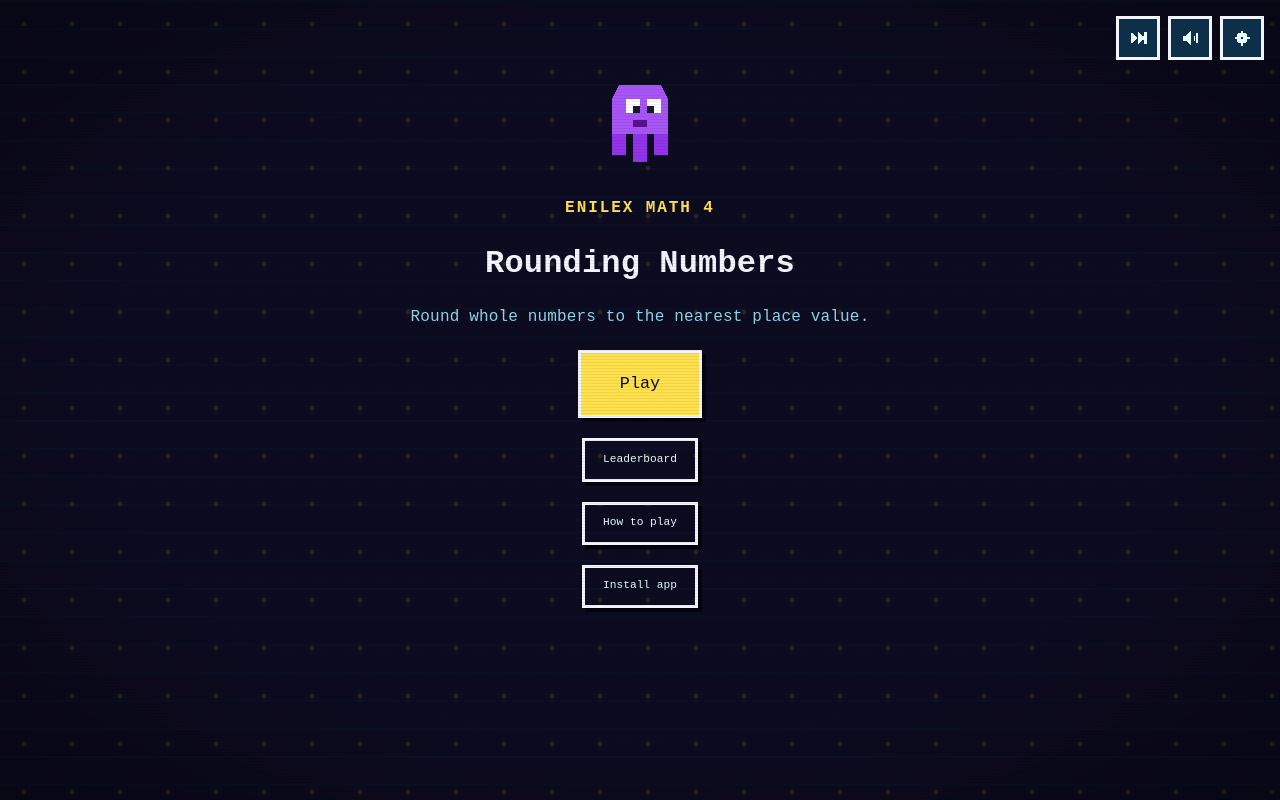
Test: App › navigates Home → Difficulty → Picker for Easy
The image size is (1280, 800).
Click the button "Play".
click(640, 384)  # box [578,350,702,418]
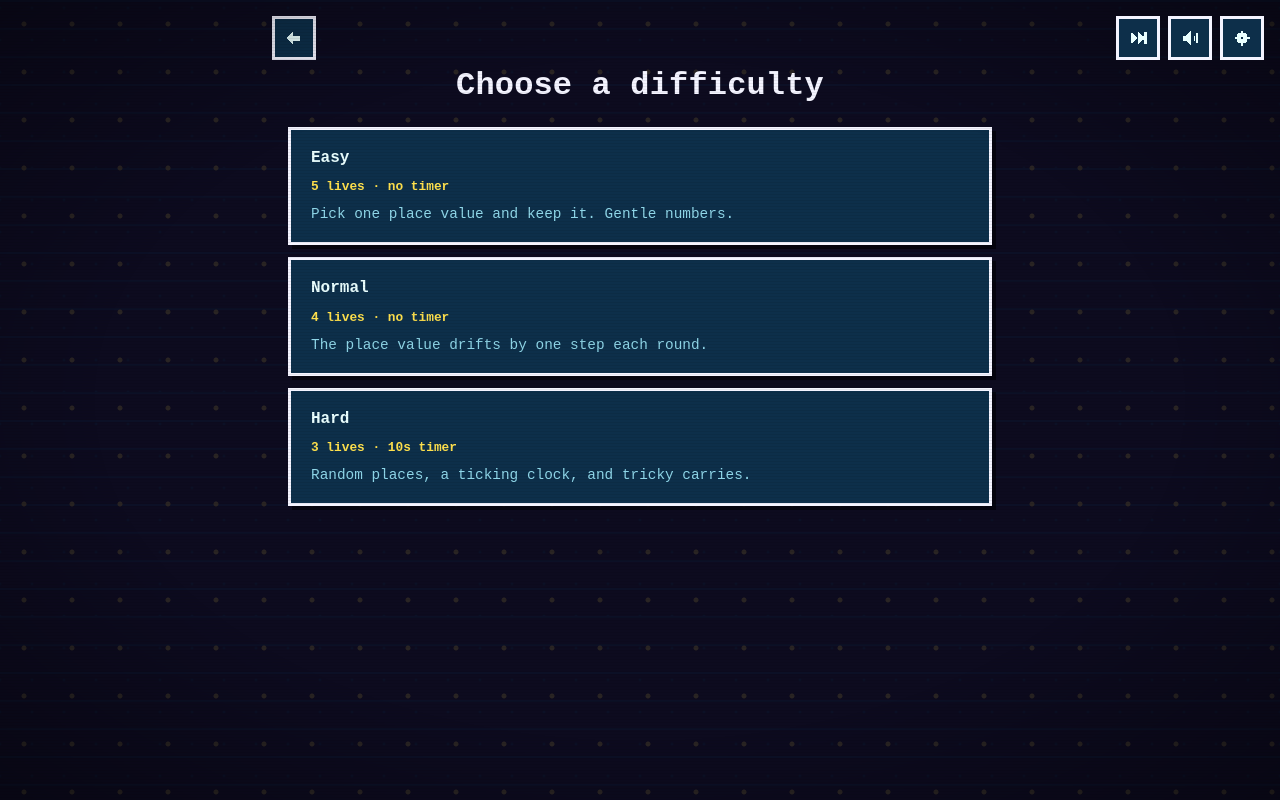
Click the button "easy".
click(330, 158)  # box [288,127,992,246]
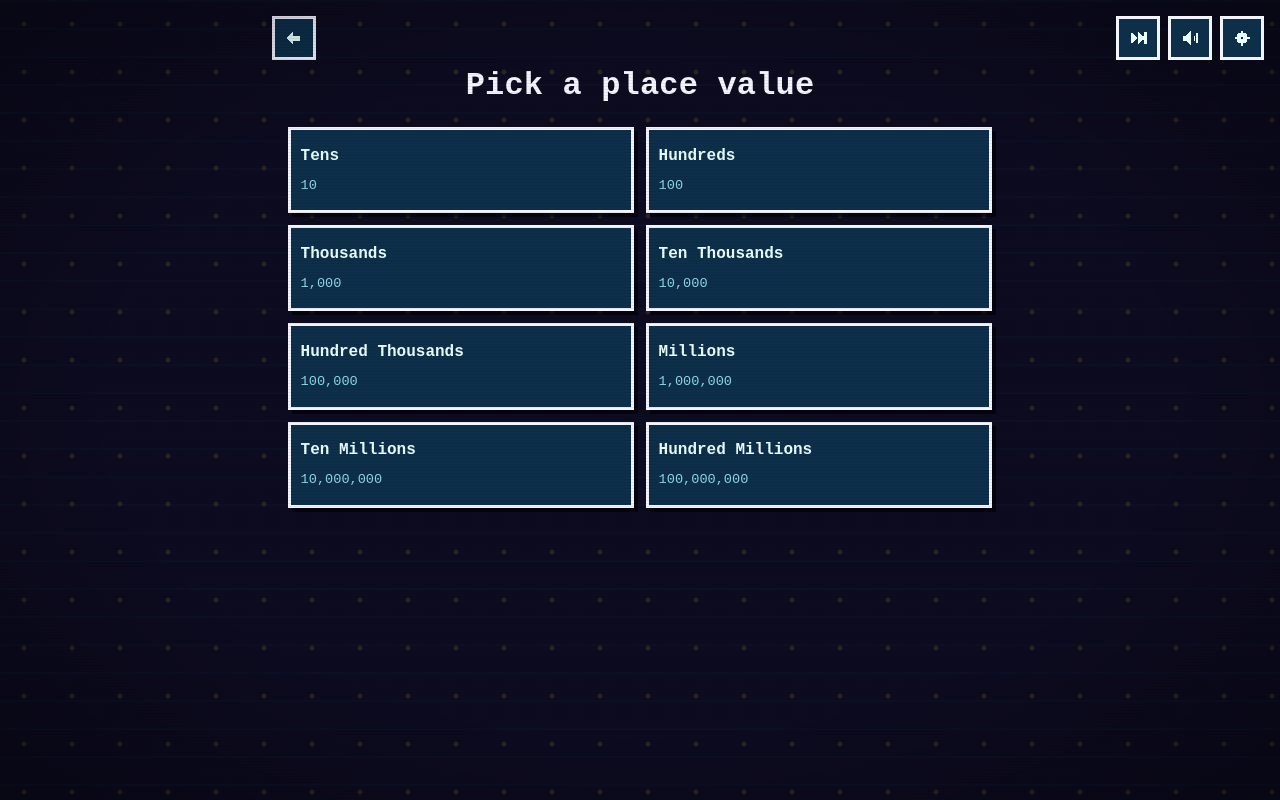
Check: the heading "Pick a place value" is shown, box [466,64,814,107]
